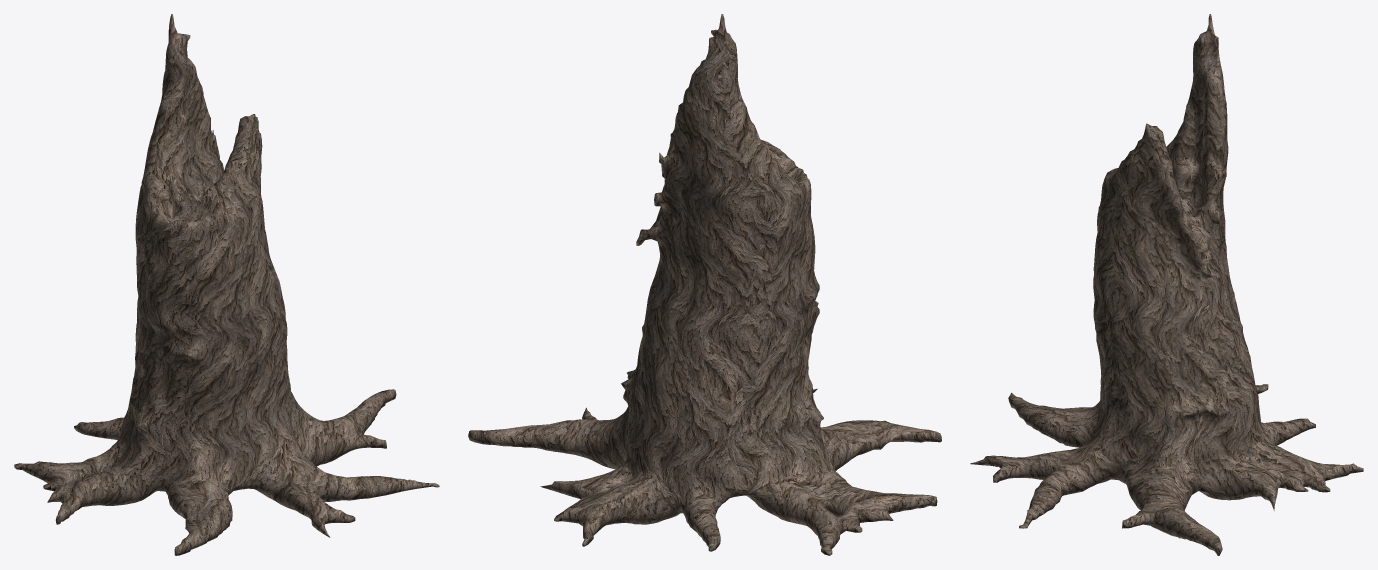
Rendered from twisted-stump-v03.glb.
3 renders of one model, left to right at view 1: azimuth 30°, elevation 25°; view 2: azimuth 150°, elevation 25°; view 3: azimuth 270°, elevation 25°, orthographic. The views are drawn at different scales.
Visible parts, largest first — view 1: Twisted stump v02 | unified bark; view 2: Twisted stump v02 | unified bark; view 3: Twisted stump v02 | unified bark.
Part boxes in pixels (left/top/right/bottom): Twisted stump v02 | unified bark: left=14, top=14, right=439, bottom=555; Twisted stump v02 | unified bark: left=468, top=14, right=941, bottom=555; Twisted stump v02 | unified bark: left=970, top=14, right=1363, bottom=555.
Bounding box in the file's own units: 3.82 × 4.39 × 3.46.
Materials: 1 (1 with a texture image).
